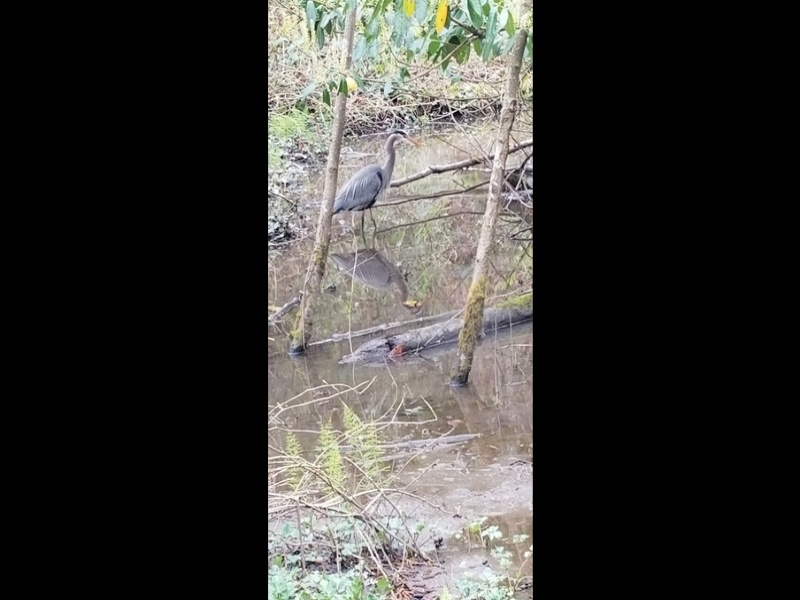heron: (332, 129, 416, 237)
